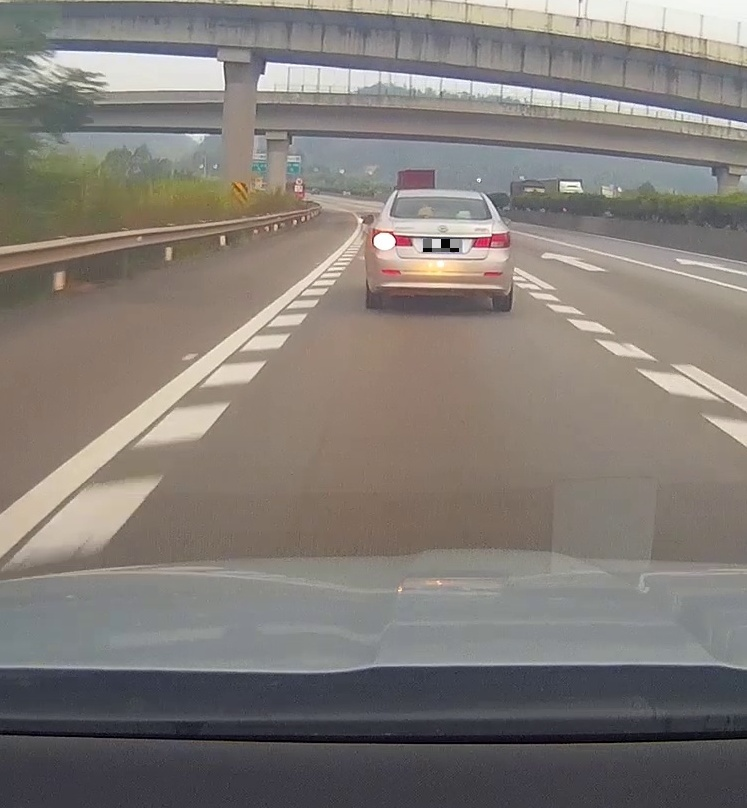L_light: (372, 228, 412, 246)
R_light: (472, 232, 510, 248)
T_light: (432, 197, 449, 201)
day-left: (365, 191, 512, 312)
plate_1: (423, 239, 462, 252)
